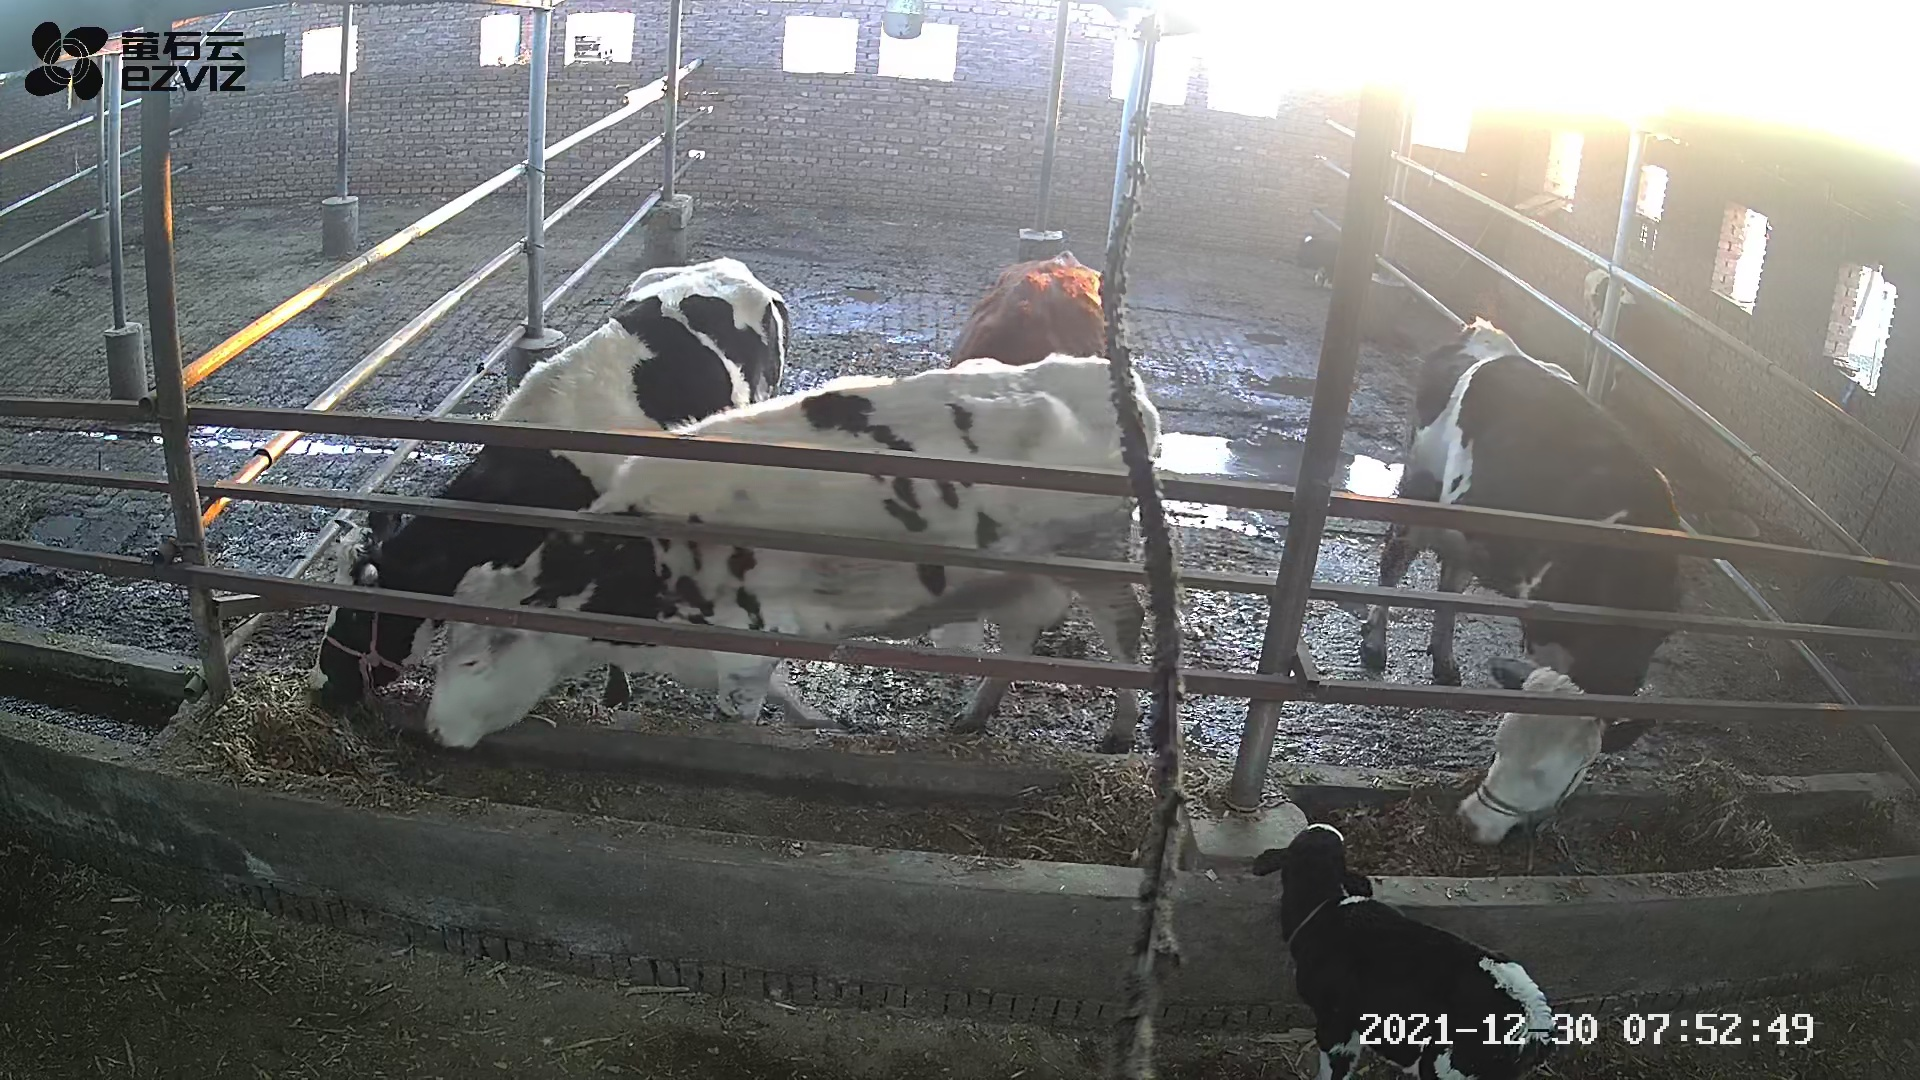cow: (421, 349, 1160, 752), (303, 255, 791, 717), (1356, 311, 1681, 847), (949, 247, 1108, 371)
